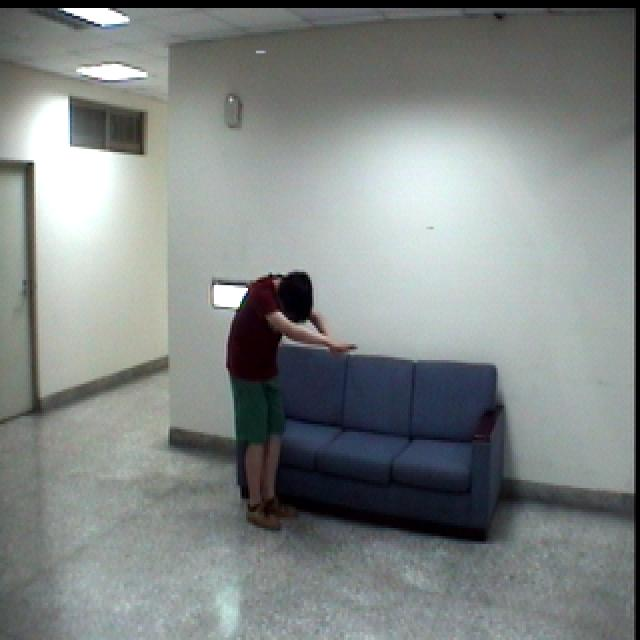bend: (222, 270, 361, 538)
